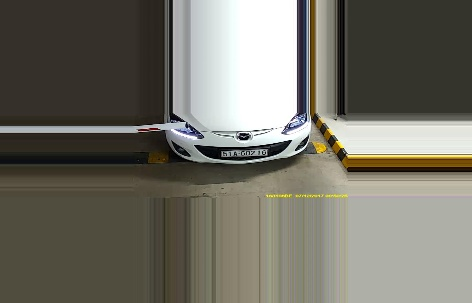plate: (218, 146, 268, 157)
